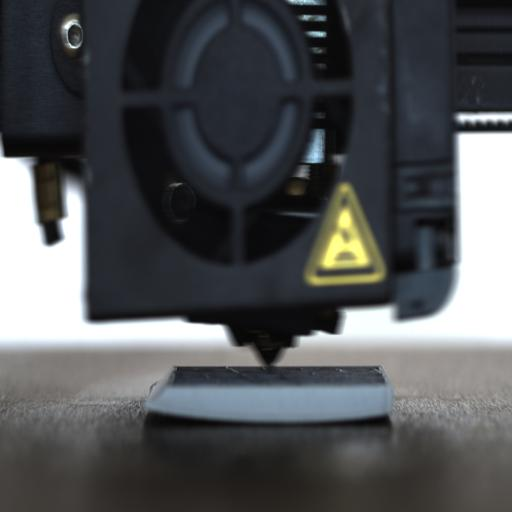warp: (137, 398, 207, 426), (361, 406, 395, 425)
